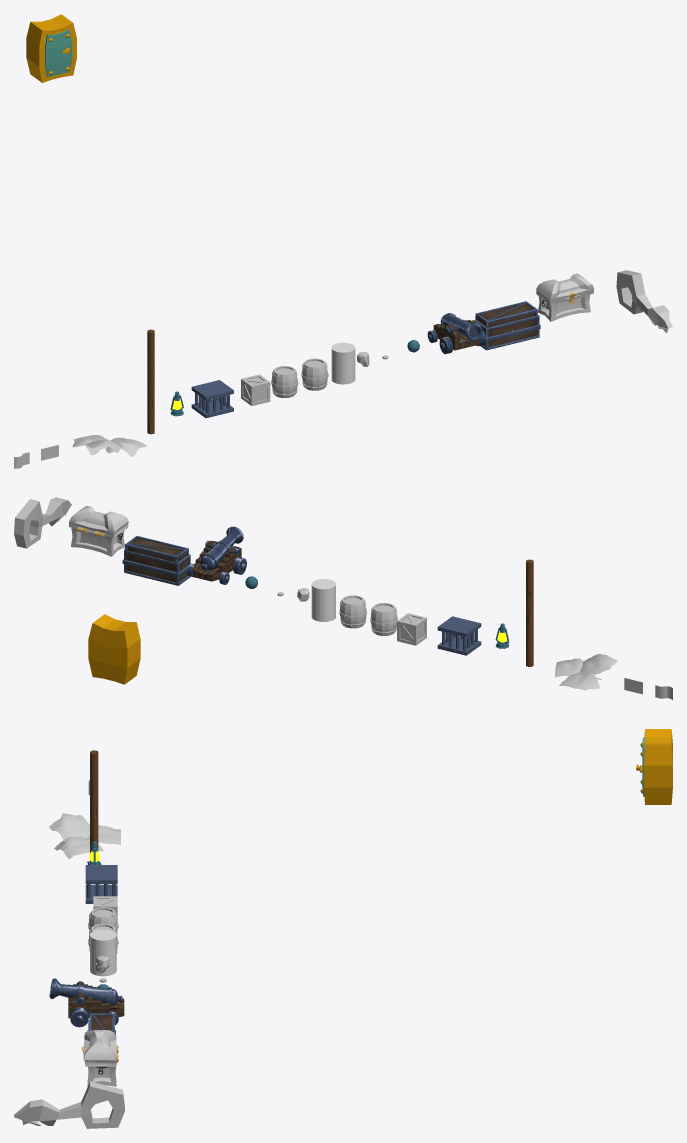
File: collected.fbx
The picture shows the model from 3 angles, top to bottom: view 1: azimuth 30°, elevation 25°; view 2: azimuth 150°, elevation 25°; view 3: azimuth 270°, elevation 25°; orthographic projection. The views are drawn at different scales.
Parts seen in each view (by area): view 1: door, Box003, key, ChestTop, person refrence, Cube, ChestBox, Cylinder.003, barrel.001, barrel, create.003; view 2: door, Box003, key, ChestTop, person refrence, Cube, ChestBox, Cylinder.003, barrel.001, Cylinder.008, barrel, Cube.004 (+5 smaller); view 3: key, door, ChestTop, person refrence, Cylinder.008, Cube, Cylinder.003, Plane.010, Cube.004.
Part boxes in pixels (x1,y1,x2,y2): door: (26,14,76,82); Box003: (475,301,540,350); key: (616,270,672,332); ChestTop: (536,273,594,303); person refrence: (331,342,355,384); Cube: (191,380,233,418); ChestBox: (538,294,590,321); Cylinder.003: (147,329,154,434); barrel.001: (301,358,328,390); barrel: (271,366,298,397); create.003: (241,374,270,405); door: (88,614,140,684); Box003: (122,536,190,585); key: (14,497,71,548); ChestTop: (69,506,128,537); person refrence: (311,579,335,621); Cube: (437,616,481,655); ChestBox: (71,527,124,556); Cylinder.003: (526,559,533,666); barrel.001: (339,595,366,628); Cylinder.008: (200,526,243,570); barrel: (370,603,397,635); Cube.004: (193,545,241,581); key: (14,1081,124,1128); door: (642,729,672,804); ChestTop: (83,1030,116,1066); person refrence: (90,929,116,976); Cylinder.008: (49,978,122,1005); Cube: (85,865,117,903); Cylinder.003: (90,750,98,853); Plane.010: (49,813,89,841); Cube.004: (68,985,124,1018).
Bounding box in the file's own units: 3713 × 1083 × 3011.
